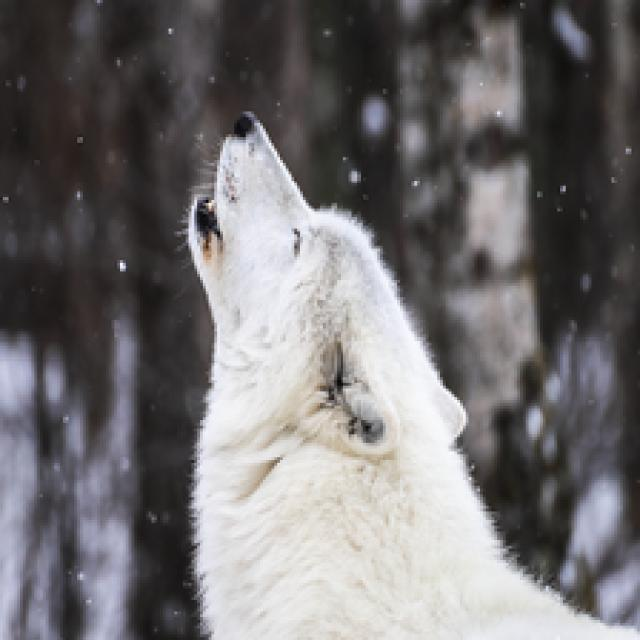wolf: (143, 105, 640, 640)
